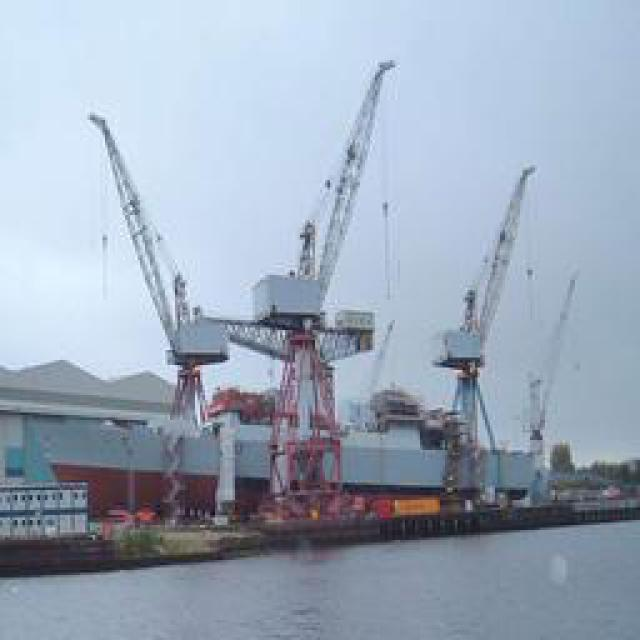Ship: (260, 139, 620, 554)
